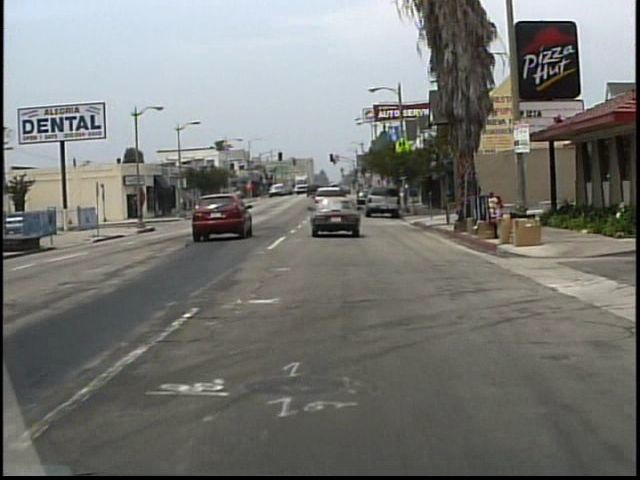person: (476, 180, 486, 213), (467, 183, 475, 208)
